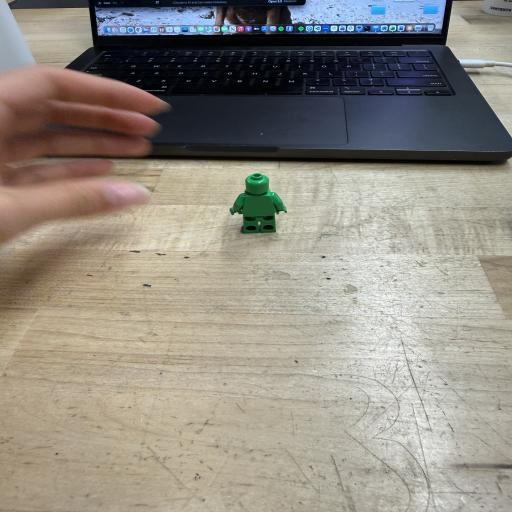green-minifig: (230, 172, 287, 234)
